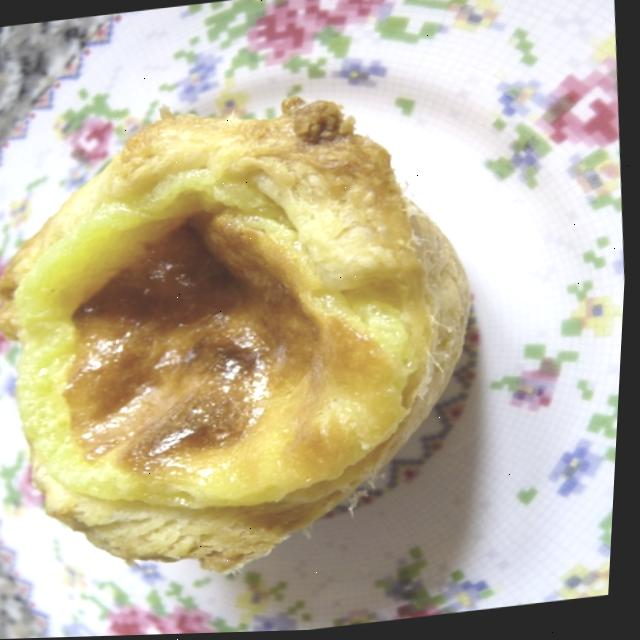炸货点心: (0, 52, 523, 603)
蛋糕甜品: (0, 52, 523, 603)
